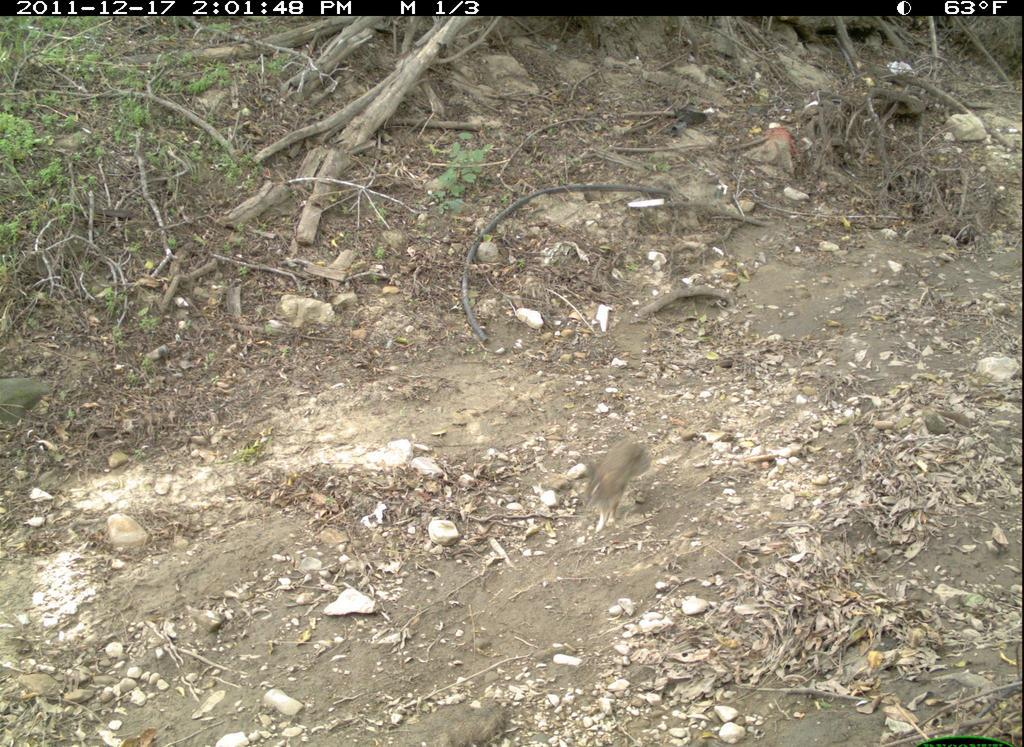rabbit: (564, 424, 658, 534)
